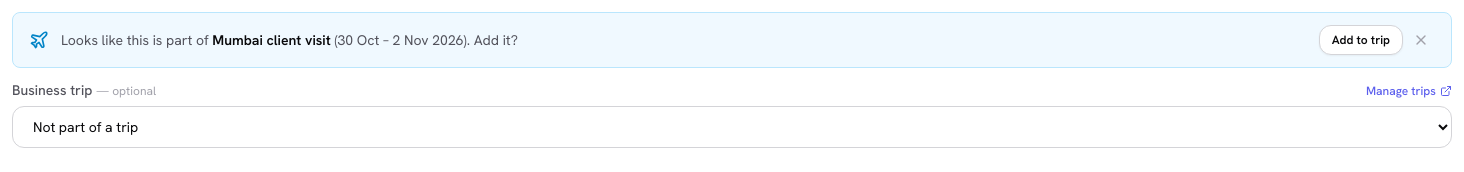
it: TripFields › can dismiss the suggestion
Step 1. Click the button named "dismiss trip suggestion" → click(1421, 40), box 1407,26 -> 1435,54
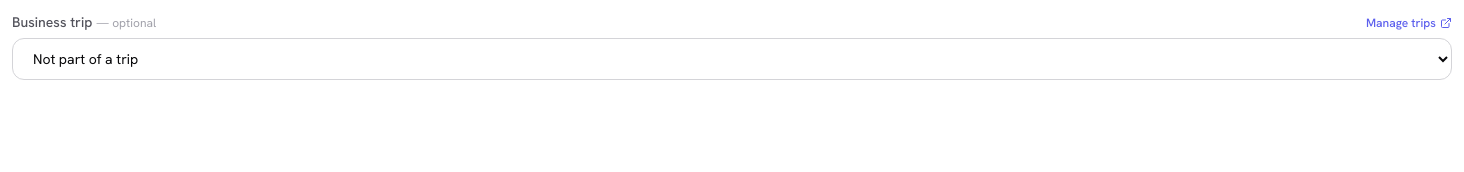
Expected: the message is gone
